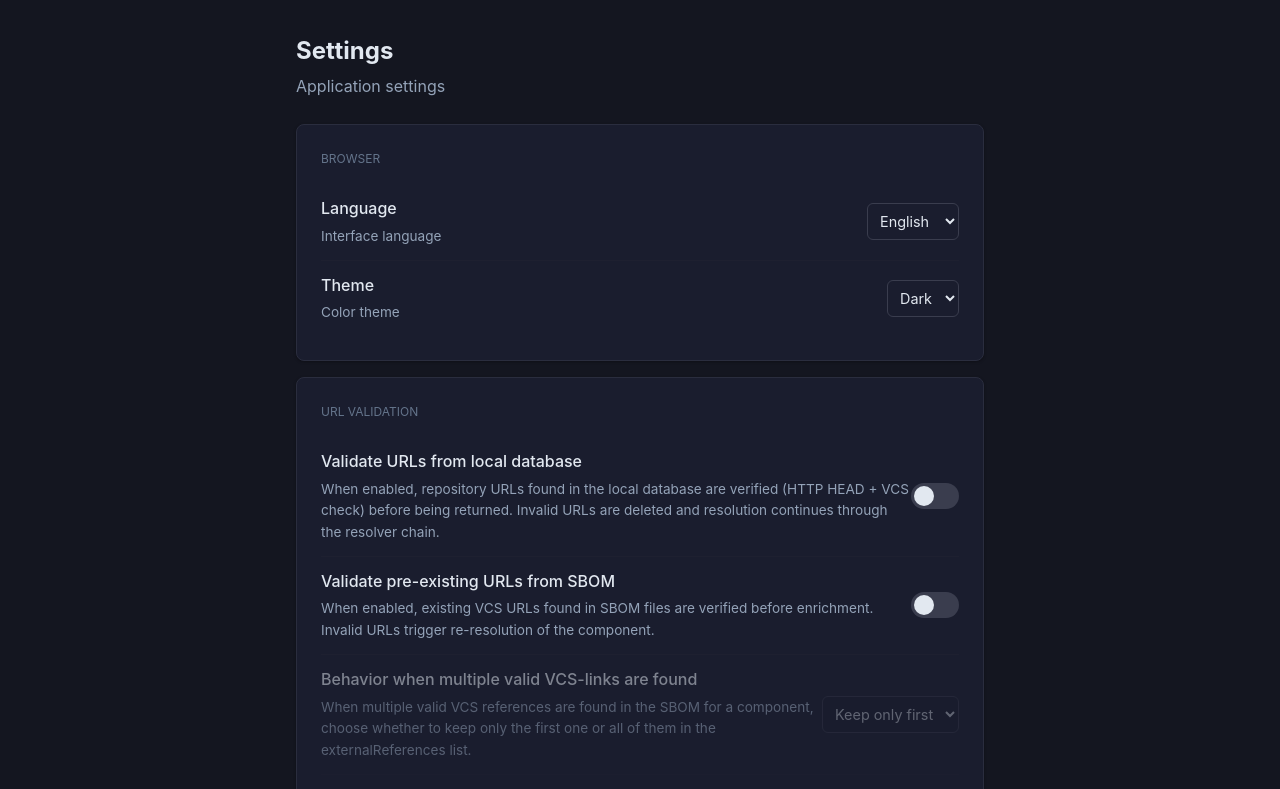
Test: Settings.vue › shows success toast after a successful PATCH
The image size is (1280, 789).
Click the 1st checkbox: (935, 496) [911,484,959,510]
Wait 500 ms
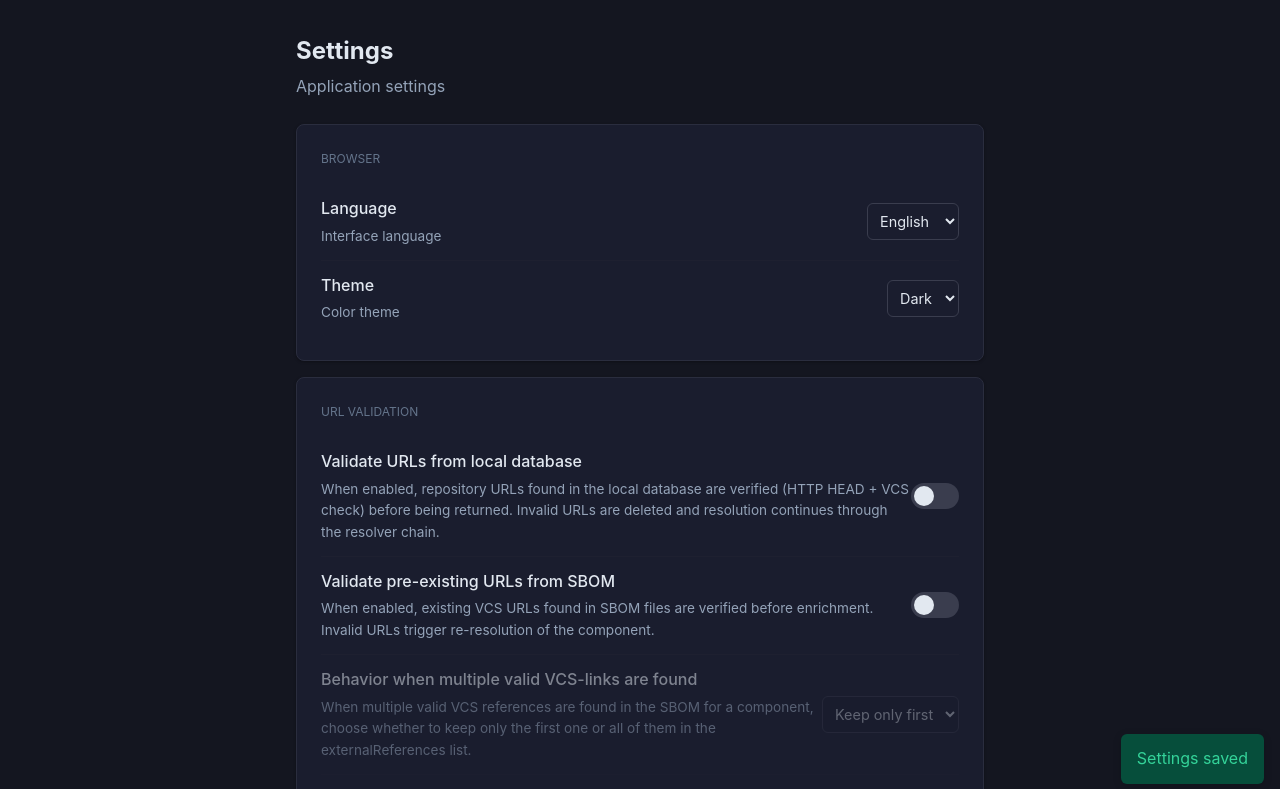
Expected: the text "Settings saved" is shown, [1121,734,1264,784]
Expected: the text with class "toast" reads "Settings saved", [1137,748,1248,768]
